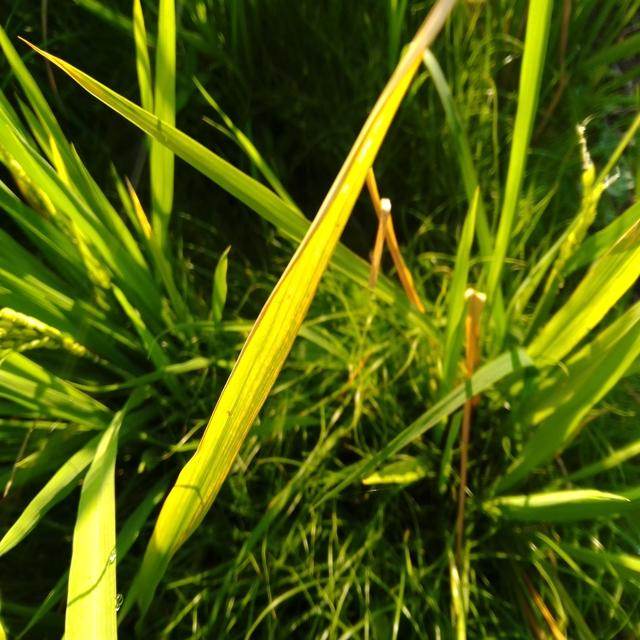Brown spot: (152, 0, 467, 503), (361, 180, 434, 346)
